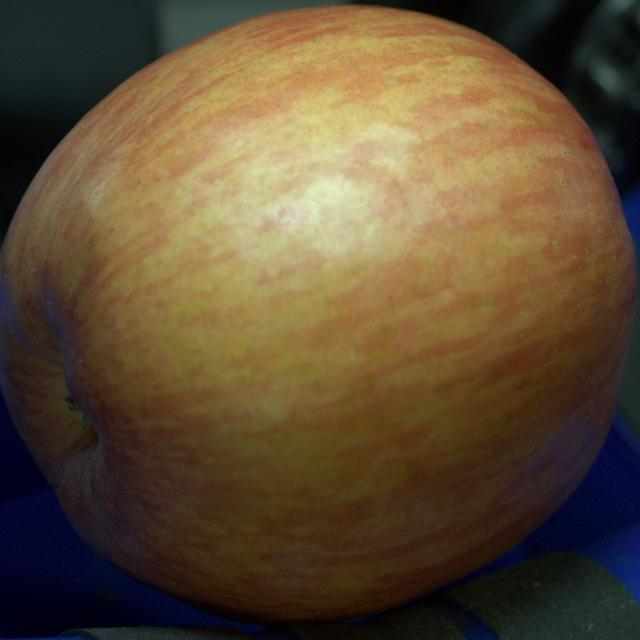apple: (0, 6, 636, 621)
bruise: (36, 200, 109, 327)
